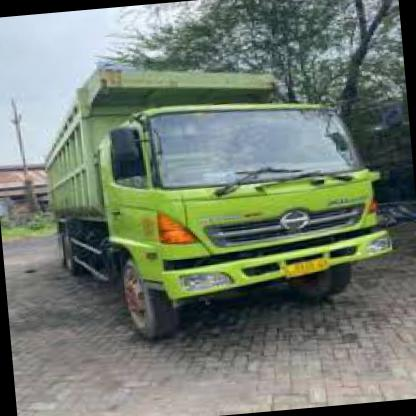truck: (94, 87, 394, 343)
